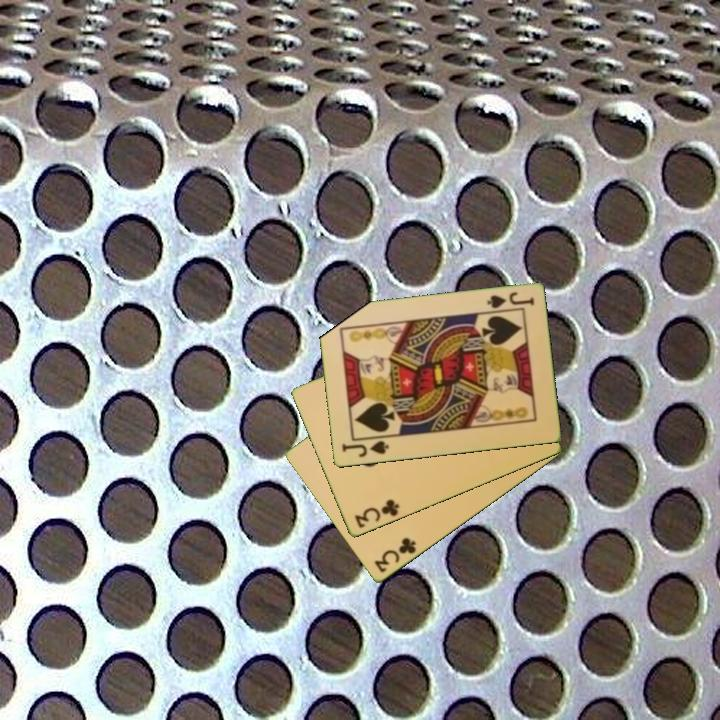3c: (370, 534, 419, 576), (351, 496, 402, 531)
Js: (483, 288, 537, 312), (338, 437, 392, 460)
